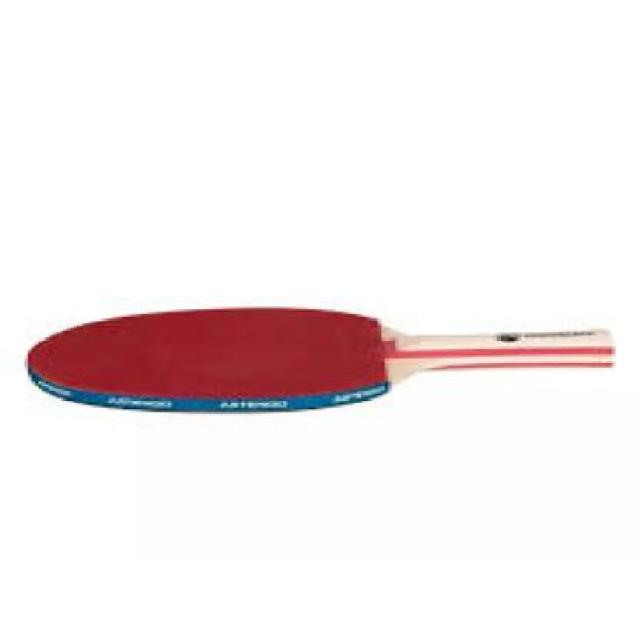table_tennis_racket: (22, 304, 430, 414)
